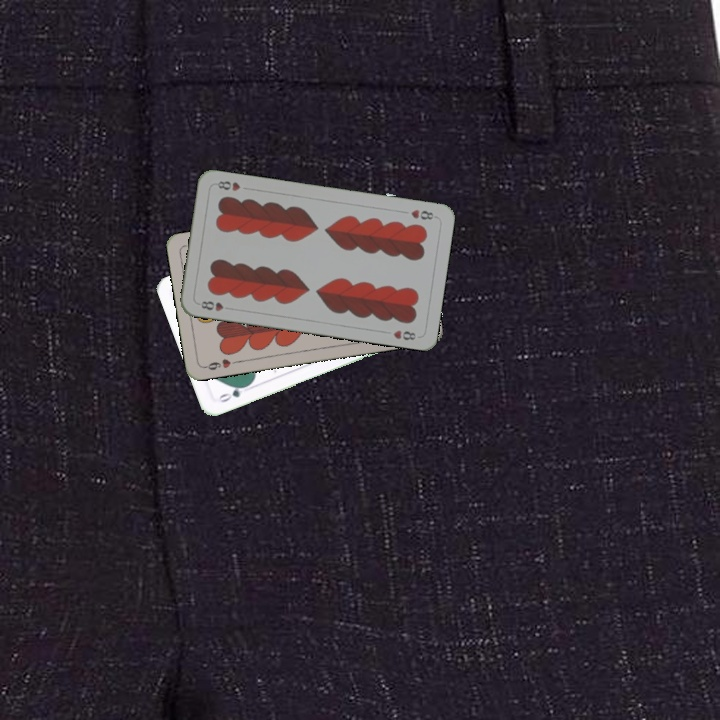GO: (213, 381, 251, 405)
H8: (197, 297, 234, 314), (407, 205, 439, 222)
H9: (200, 355, 240, 373)
